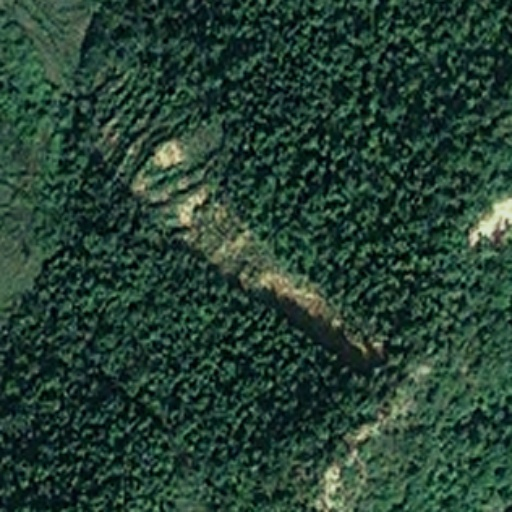landslide: (136, 143, 333, 314)
